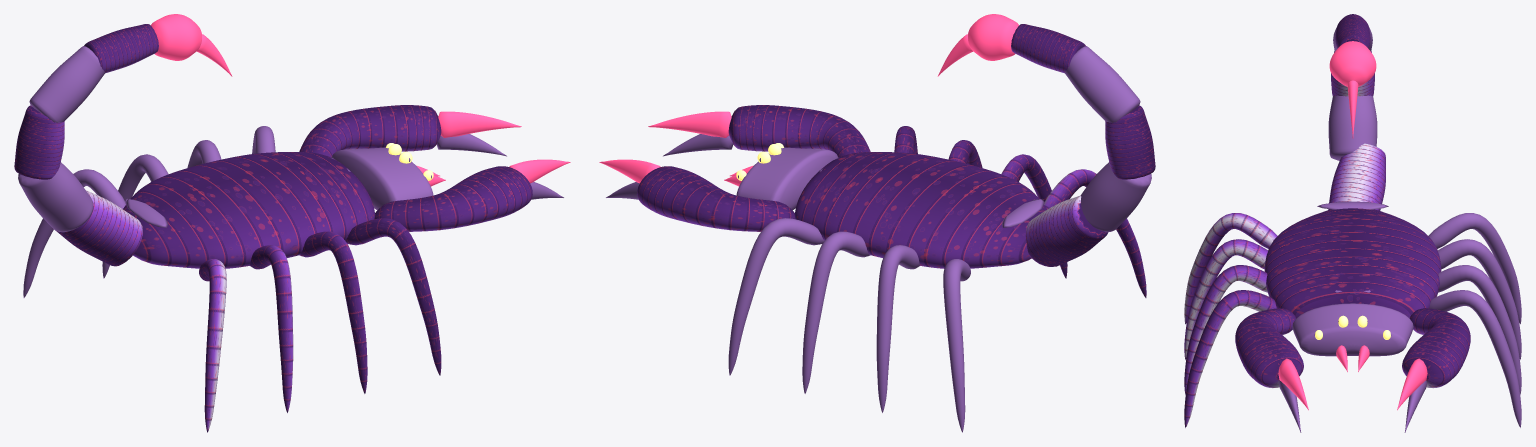
Rendered from pulmonoscorpius.glb.
The picture shows the model from 3 angles, left to right: view 1: azimuth 30°, elevation 25°; view 2: azimuth 150°, elevation 25°; view 3: azimuth 270°, elevation 25°; orthographic projection. The views are drawn at different scales.
Parts seen in each view (by area): view 1: Scorp_Mesosoma, Scorp_Pedipalp_1, Scorp_Pedipalp_0, Scorp_Prosoma, Scorp_TailSeg0, Scorp_TailSeg3, Scorp_TailSeg1, Scorp_LegMesh1, Scorp_TailSeg2, Scorp_LegMesh3, Scorp_LegMesh5, Scorp_LegMesh7 (+10 smaller); view 2: Scorp_Mesosoma, Scorp_Pedipalp_0, Scorp_Pedipalp_1, Scorp_TailSeg0, Scorp_Prosoma, Scorp_TailSeg3, Scorp_LegMesh0, Scorp_TailSeg1, Scorp_TailSeg2, Scorp_LegMesh2, Scorp_LegMesh4, Scorp_LegMesh6 (+10 smaller); view 3: Scorp_Mesosoma, Scorp_Prosoma, Scorp_Pedipalp_0, Scorp_Pedipalp_1, Scorp_TailSeg0, Scorp_TailSeg1, Scorp_LegMesh0, Scorp_LegMesh1, Scorp_LegMesh6, Scorp_LegMesh7, Scorp_LegMesh4, Scorp_LegMesh5 (+11 smaller).
Boxes of the visible parts, x1,y1,x2,y2 form: Scorp_Mesosoma: (123,152,375,268); Scorp_Pedipalp_1: (374,166,532,231); Scorp_Pedipalp_0: (299,105,441,157); Scorp_Prosoma: (331,147,433,210); Scorp_TailSeg0: (52,190,142,266); Scorp_TailSeg3: (29,46,104,122); Scorp_TailSeg1: (18,162,93,232); Scorp_LegMesh1: (345,218,441,375); Scorp_TailSeg2: (14,105,64,179); Scorp_LegMesh3: (299,231,367,393); Scorp_LegMesh5: (250,245,293,412); Scorp_LegMesh7: (199,259,226,432); Scorp_Mesosoma: (794,152,1046,268); Scorp_Pedipalp_0: (637,166,795,231); Scorp_Pedipalp_1: (728,105,870,157); Scorp_TailSeg0: (1025,195,1108,266); Scorp_Prosoma: (736,147,838,210); Scorp_TailSeg3: (1065,46,1140,122); Scorp_LegMesh0: (728,218,824,375); Scorp_TailSeg1: (1081,162,1151,232); Scorp_TailSeg2: (1105,105,1155,179); Scorp_LegMesh2: (802,231,870,393); Scorp_LegMesh4: (876,245,919,412); Scorp_LegMesh6: (943,259,970,432); Scorp_Mesosoma: (1264,208,1441,317); Scorp_Prosoma: (1292,303,1413,356); Scorp_Pedipalp_0: (1402,308,1470,388); Scorp_Pedipalp_1: (1235,308,1303,388); Scorp_TailSeg0: (1328,143,1385,210); Scorp_TailSeg1: (1328,95,1377,160); Scorp_LegMesh0: (1429,290,1521,427); Scorp_LegMesh1: (1184,290,1276,427); Scorp_LegMesh6: (1428,213,1521,324); Scorp_LegMesh7: (1184,213,1277,324); Scorp_LegMesh4: (1437,239,1521,359); Scorp_LegMesh5: (1184,239,1268,359).
Size of the model in its own units: 4.59 by 2.77 by 2.78.
Materials: 5 (1 with a texture image).
